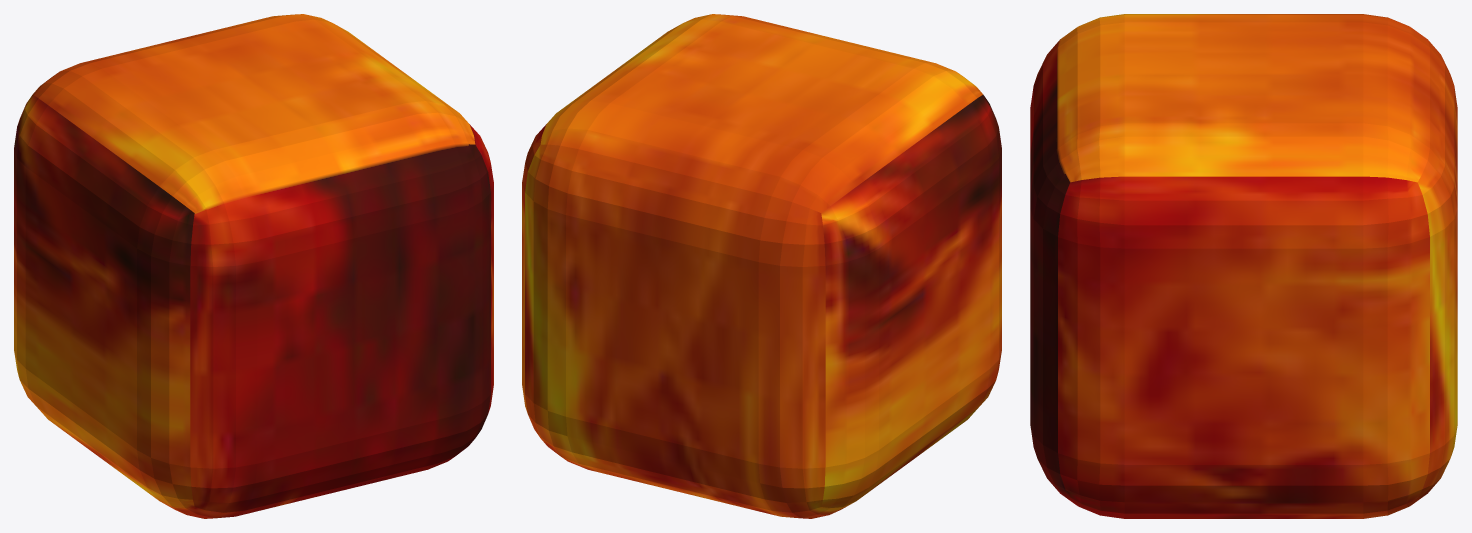
The model's file is fire.obj.
3 renders of one model, left to right at view 1: azimuth 30°, elevation 25°; view 2: azimuth 150°, elevation 25°; view 3: azimuth 270°, elevation 25°, orthographic. The views are drawn at different scales.
Visible parts, largest first — view 1: Cube_Cube.001; view 2: Cube_Cube.001; view 3: Cube_Cube.001.
Boxes of the visible parts, left/top/right/bottom form: Cube_Cube.001: left=14, top=14, right=493, bottom=518; Cube_Cube.001: left=522, top=14, right=1001, bottom=518; Cube_Cube.001: left=1030, top=14, right=1457, bottom=518.
Size of the model in its own units: 2 by 2 by 2.
Materials: 1 (1 with a texture image).
